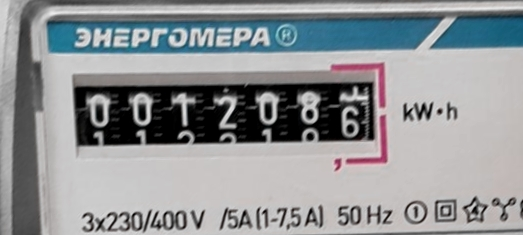0: (83, 88, 110, 128), (127, 89, 152, 127), (252, 88, 277, 125)
1: (169, 88, 191, 128)
2: (211, 91, 238, 130)
6: (334, 102, 359, 138)
8: (293, 87, 319, 125)
screen: (62, 53, 395, 180)
